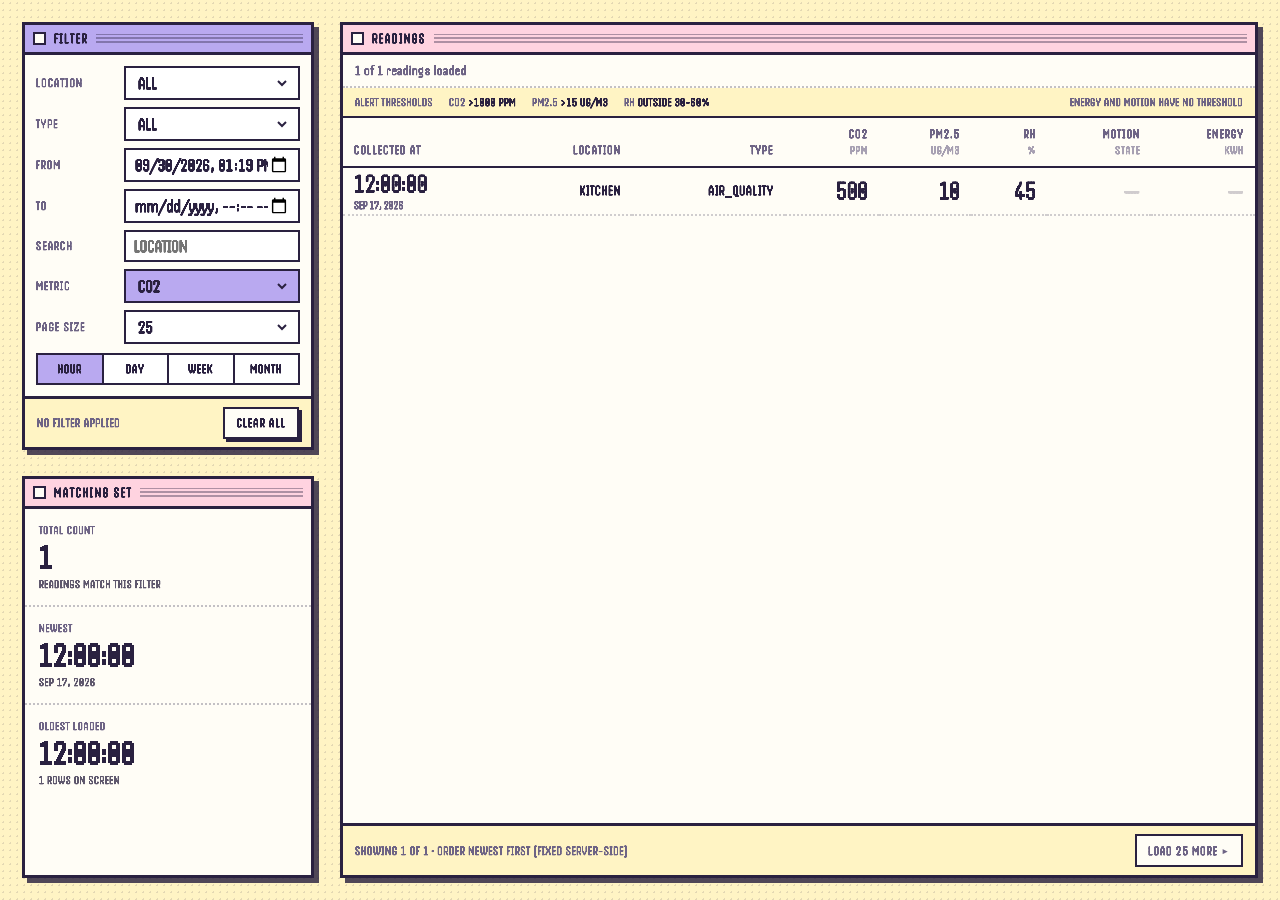
Scenario: ExplorerPage › should collapse identity columns into a banner once one location is filtered
Expected: the column heading "LOCATION" is shown, [510,118,632,167]
Select "Kitchen" in the dropdown labelled "LOCATION" at [212, 83], box [134,72,290,94]
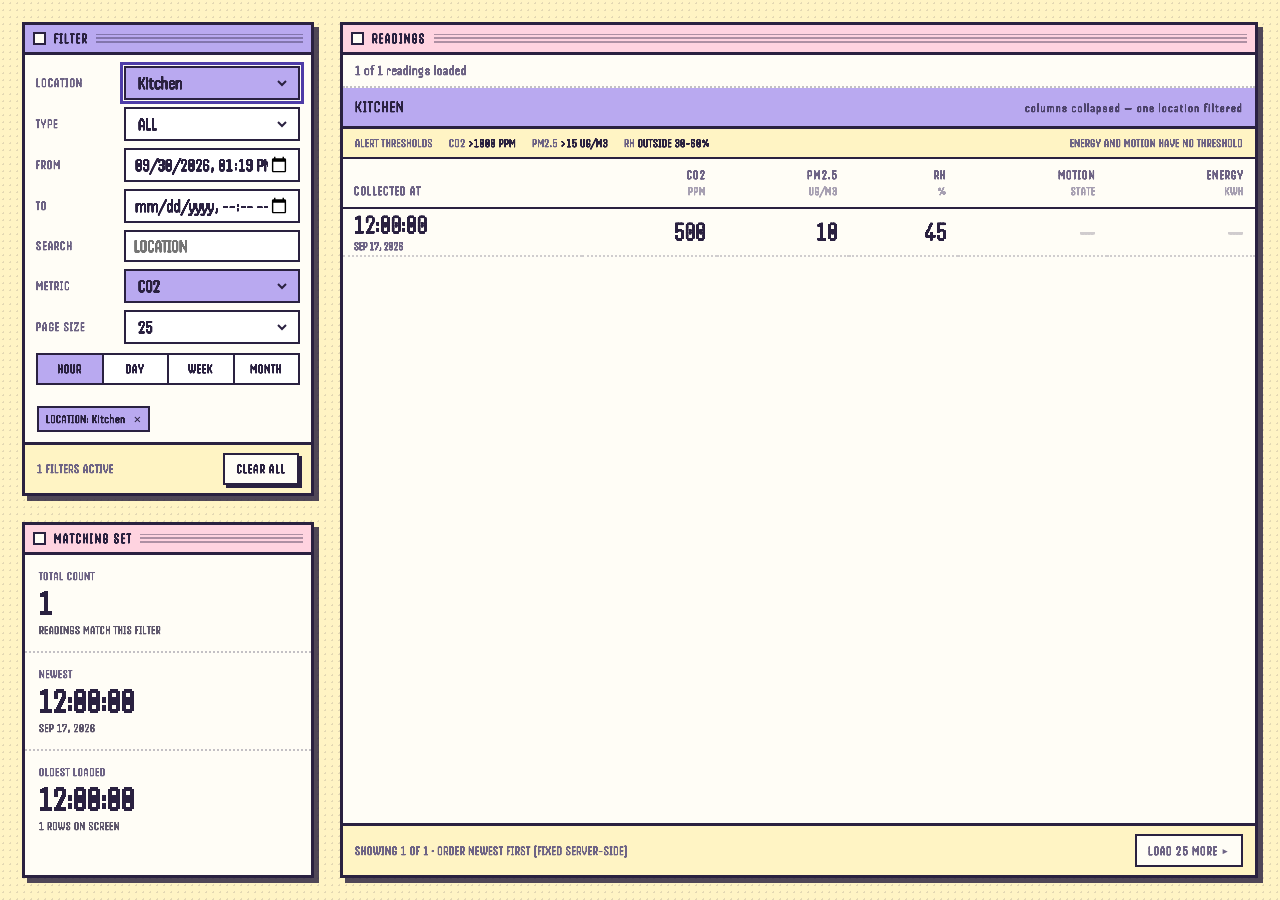
Result: the text "columns collapsed — one location filtered" is shown at [1025,101,1243,115]
